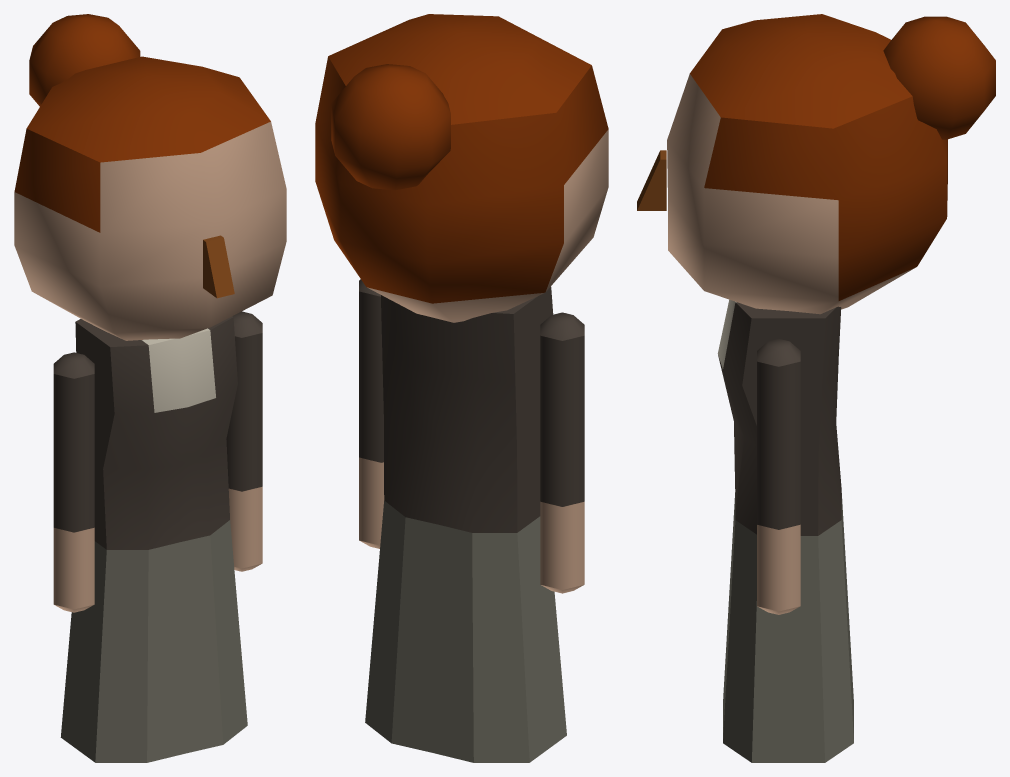
The model's file is Villager_5.FBX.
3 views of the same model, side by side, from view 1: azimuth 30°, elevation 25°; view 2: azimuth 150°, elevation 25°; view 3: azimuth 270°, elevation 25° (orthographic). The views are drawn at different scales.
Parts seen in each view (by area): view 1: Box040; view 2: Box040; view 3: Box040.
Part boxes in pixels (left/top/right/bottom): Box040: left=14, top=14, right=286, bottom=762; Box040: left=315, top=14, right=608, bottom=762; Box040: left=637, top=14, right=995, bottom=762.
Bounding box in the file's own units: 29.27 × 80.1 × 37.09.
